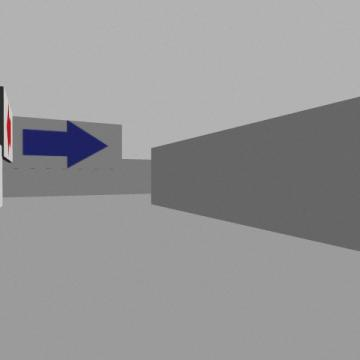blue_right: (23, 121, 107, 167)
